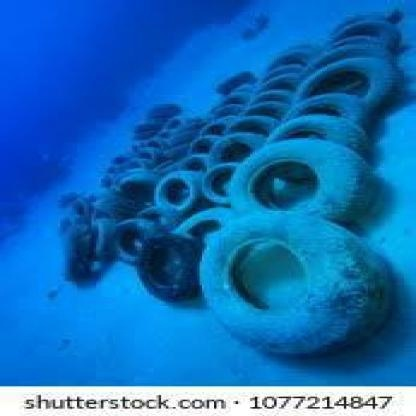tire: (190, 218, 382, 354), (234, 153, 382, 233), (125, 227, 226, 309), (267, 113, 375, 166), (320, 52, 399, 114), (296, 83, 382, 138), (96, 205, 176, 262), (178, 122, 269, 171), (190, 156, 267, 207), (144, 169, 219, 217)
